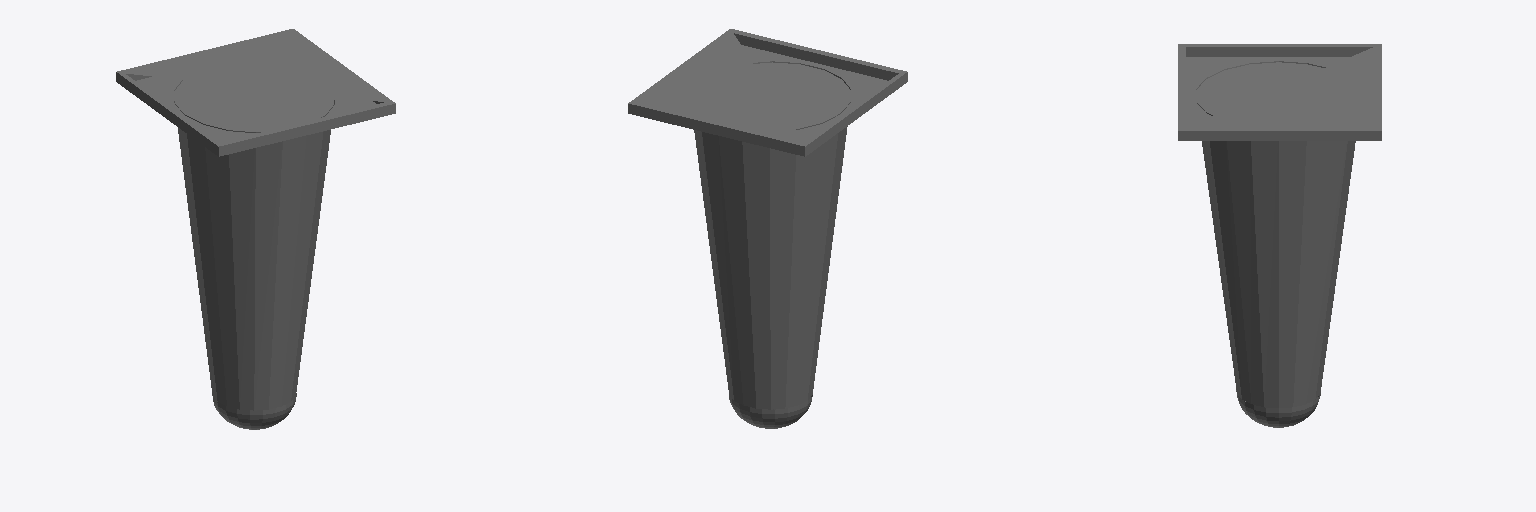
File: Cono.obj
3 views of the same model, side by side, from view 1: azimuth 30°, elevation 25°; view 2: azimuth 150°, elevation 25°; view 3: azimuth 270°, elevation 25° (orthographic).
Parts seen in each view (by area): view 1: polySurface3; view 2: polySurface3; view 3: polySurface3.
Boxes of the visible parts, <box> form: polySurface3: <box>116,29,395,429</box>; polySurface3: <box>628,29,907,428</box>; polySurface3: <box>1178,44,1381,427</box>.
Size of the model in its own units: 1.45 by 2.63 by 1.45.